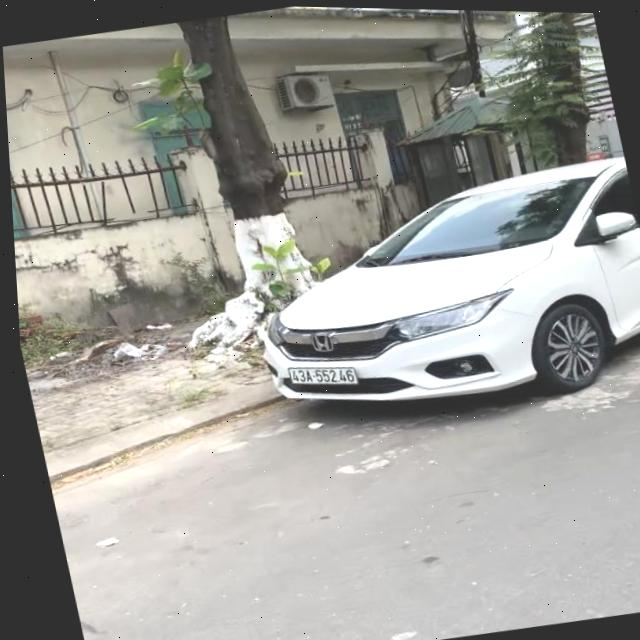car: (237, 146, 640, 442)
plate: (284, 353, 365, 399)
